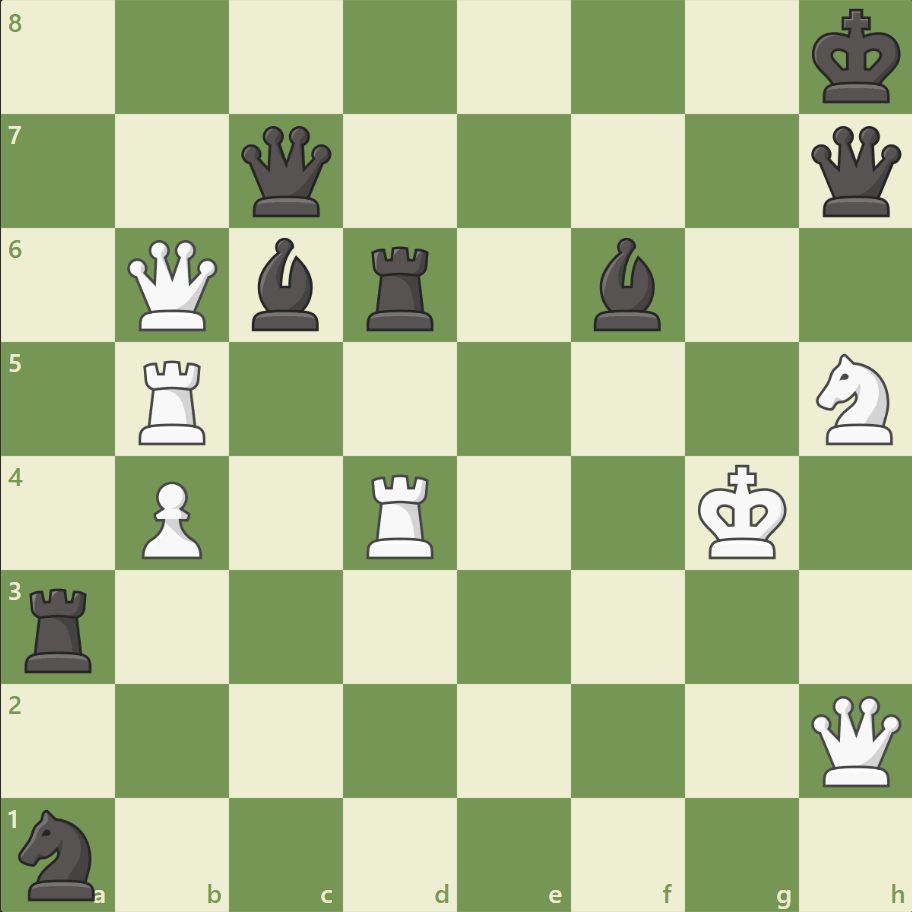K: (692, 458, 792, 566)
N: (806, 348, 903, 450)
P: (133, 473, 208, 564)
Q: (124, 236, 223, 335), (805, 690, 904, 789)
R: (133, 352, 215, 449), (360, 466, 442, 563)
b: (244, 233, 328, 336), (585, 233, 669, 336)
k: (806, 4, 906, 112)
n: (11, 802, 108, 904)
q: (237, 122, 336, 222), (805, 122, 904, 222)
r: (19, 579, 102, 676), (360, 239, 442, 336)
